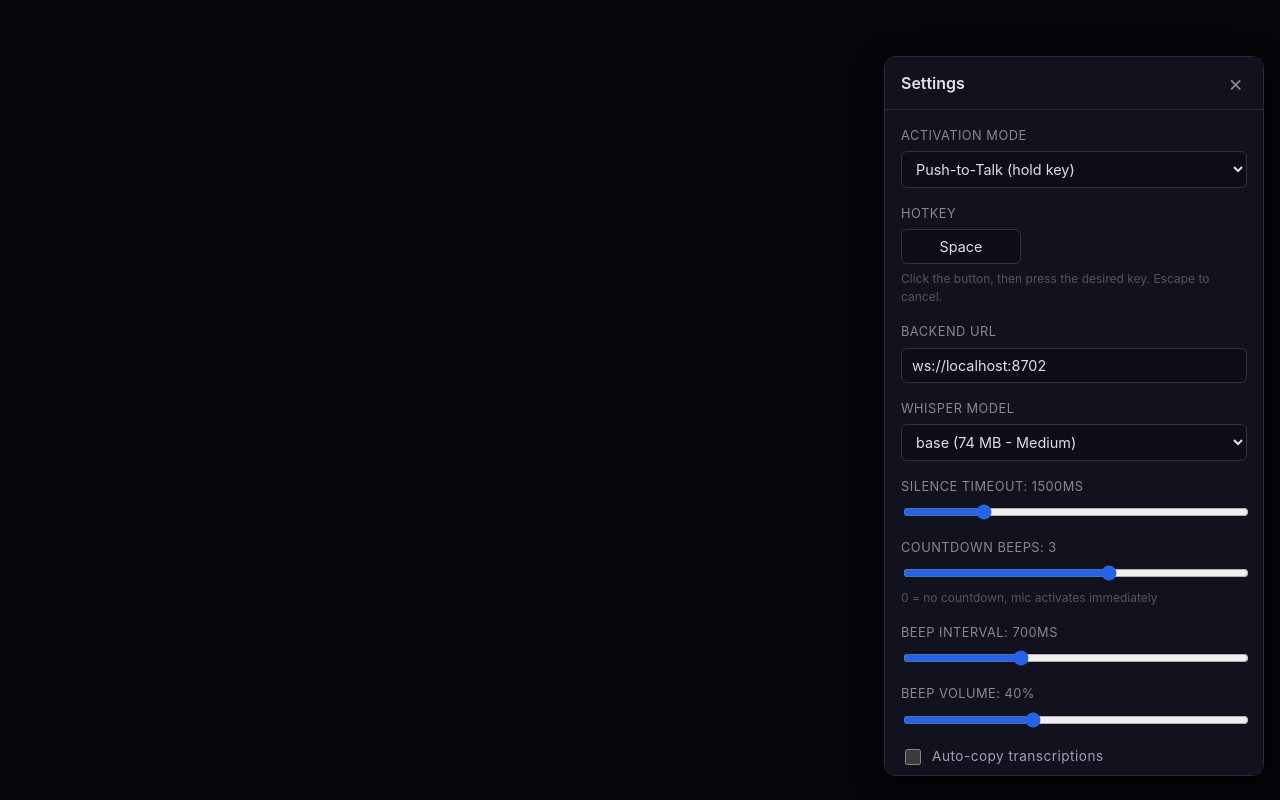
SettingsPanel › cancels capture on Escape
The image size is (1280, 800).
Step 1. Click the button "Space" → (961,247), box [901,229,1021,264]
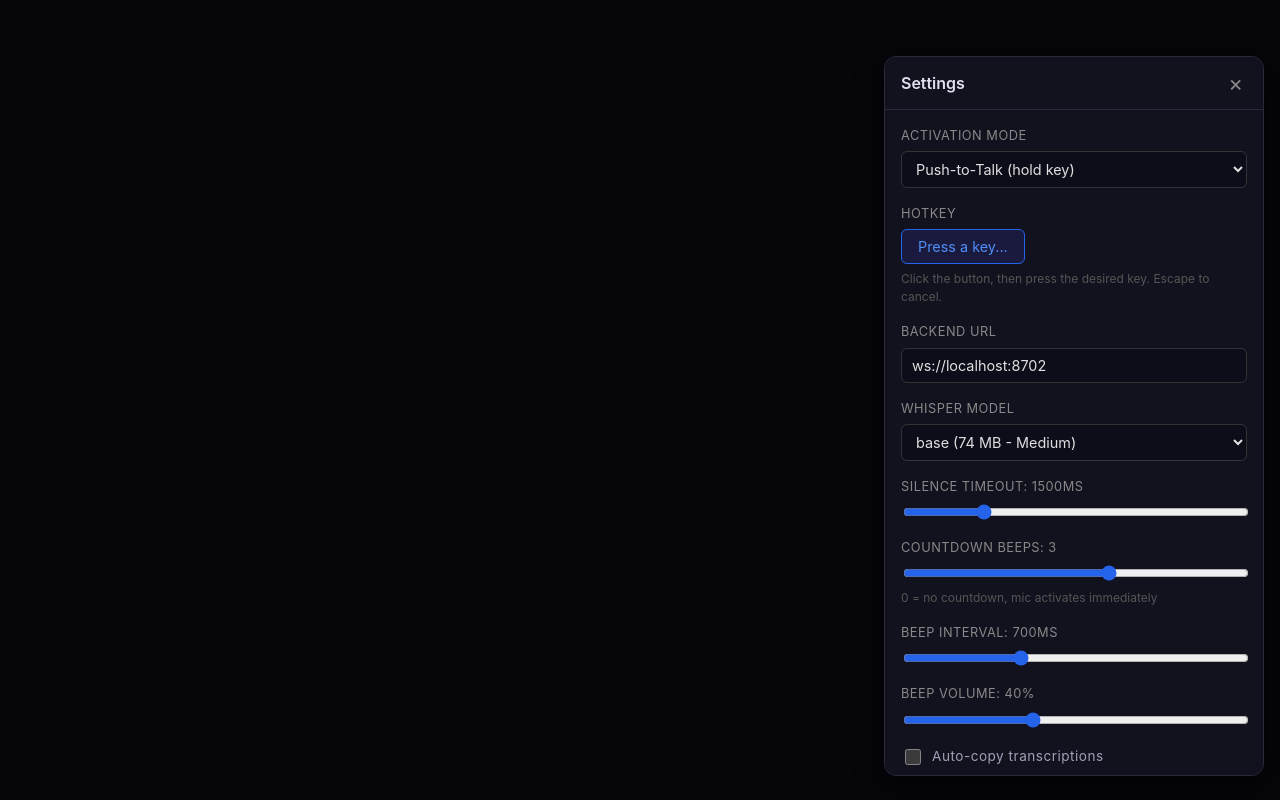
Now the button "Press a key..." is shown, box [901,229,1025,264]
# Press Escape
Step 2. Press Escape
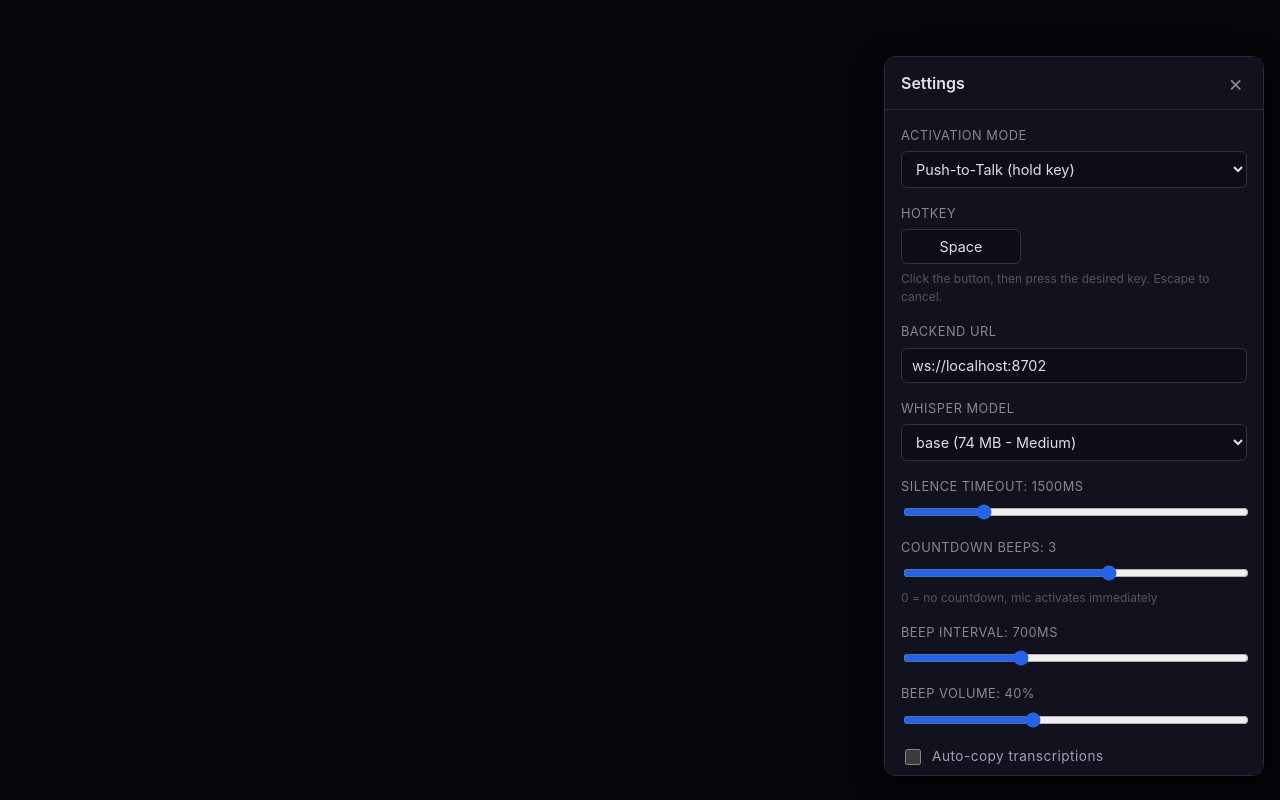
Now the button "Space" is shown, box [901,229,1021,264]
